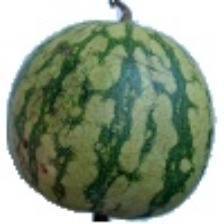watermelon: (3, 24, 193, 201)
